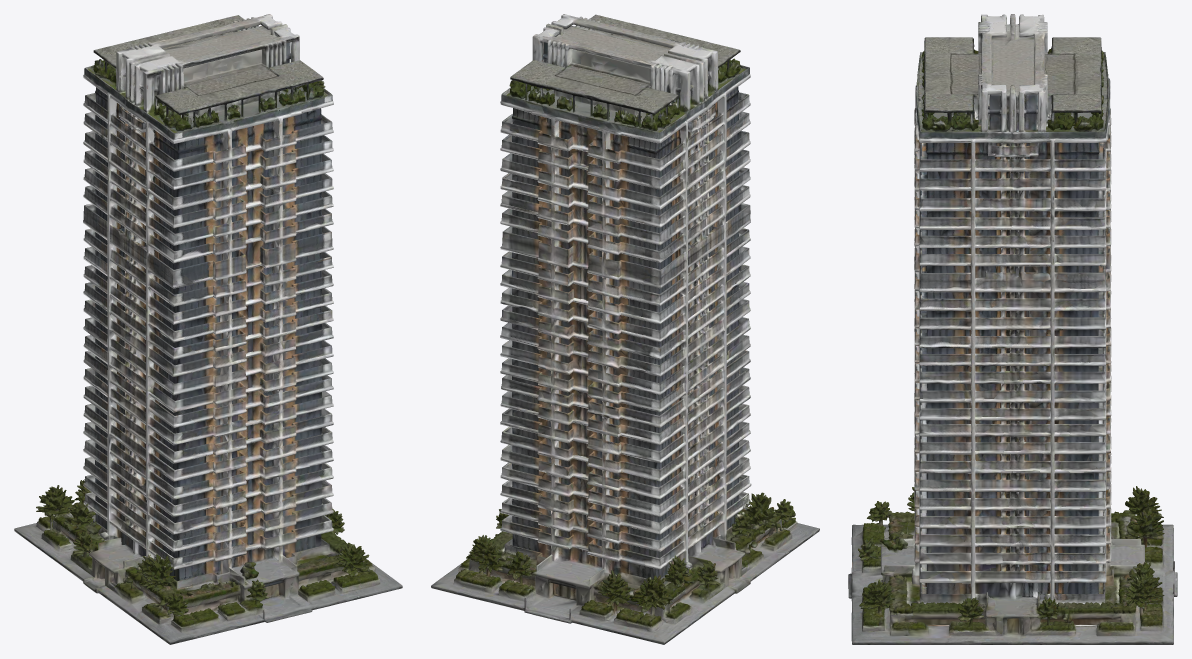
Rendered from multifamily-building.glb.
The picture shows the model from 3 angles, left to right: view 1: azimuth 30°, elevation 25°; view 2: azimuth 150°, elevation 25°; view 3: azimuth 270°, elevation 25°; orthographic projection. The views are drawn at different scales.
Parts seen in each view (by area): view 1: mesh_node; view 2: mesh_node; view 3: mesh_node.
Part boxes in pixels (x1=…): mesh_node: x1=14, y1=14, x2=402, y2=644; mesh_node: x1=431, y1=14, x2=819, y2=644; mesh_node: x1=848, y1=14, x2=1177, y2=644.
Bounding box in the file's own units: 0.9084 × 1.9 × 1.07.
1 material, 1 textured.
